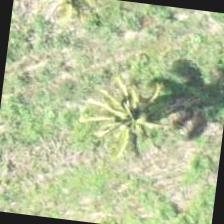Kelapa_Sawit: (66, 77, 166, 176), (11, 0, 107, 45)
